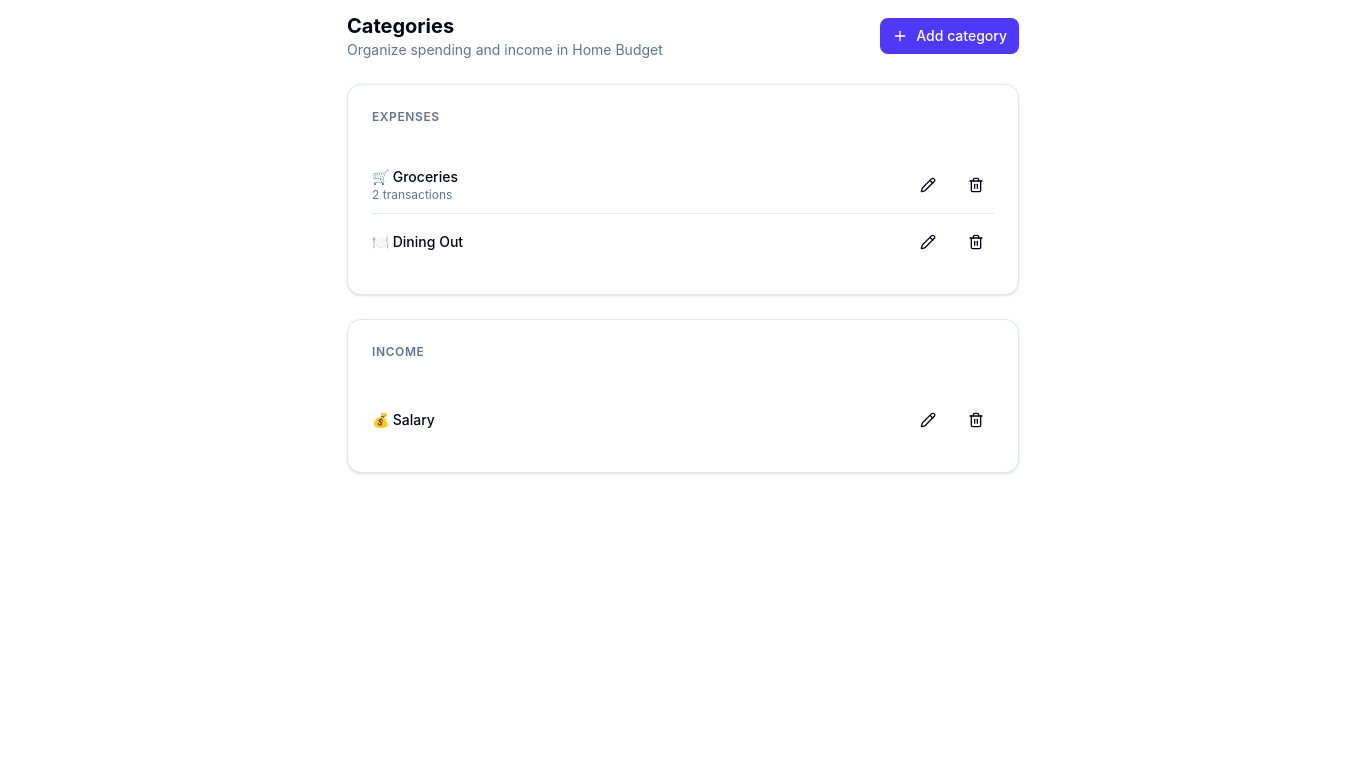
Test case: CategoriesPage › shows the backend detail message when delete returns 409
This screenshot has width=1366, height=780.
Expected: the text "🛒 Groceries" is shown, top-left (372, 168), bottom-right (458, 185)
Click the button named "delete groceries": [976, 185] box top-left (958, 167), bottom-right (994, 203)
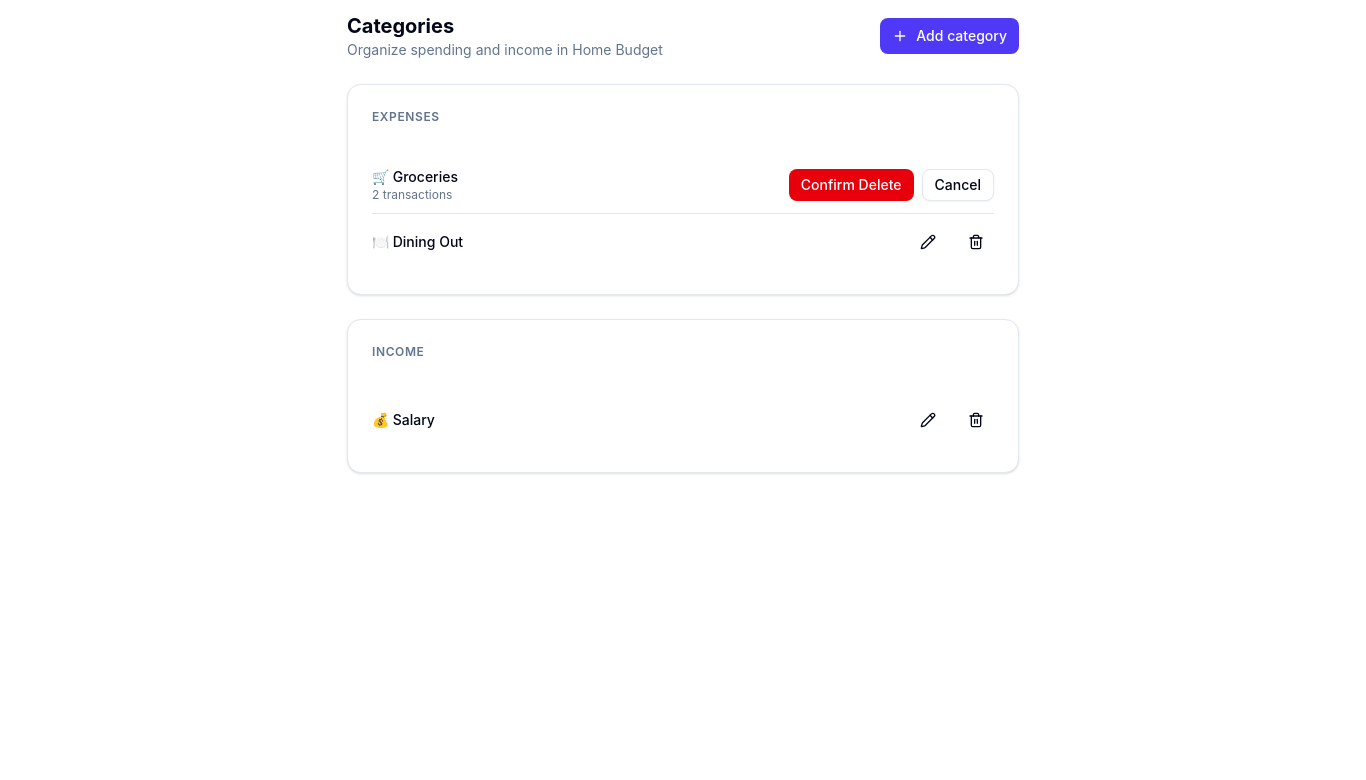
Click the button "Confirm Delete": [851, 185] box top-left (789, 169), bottom-right (914, 201)
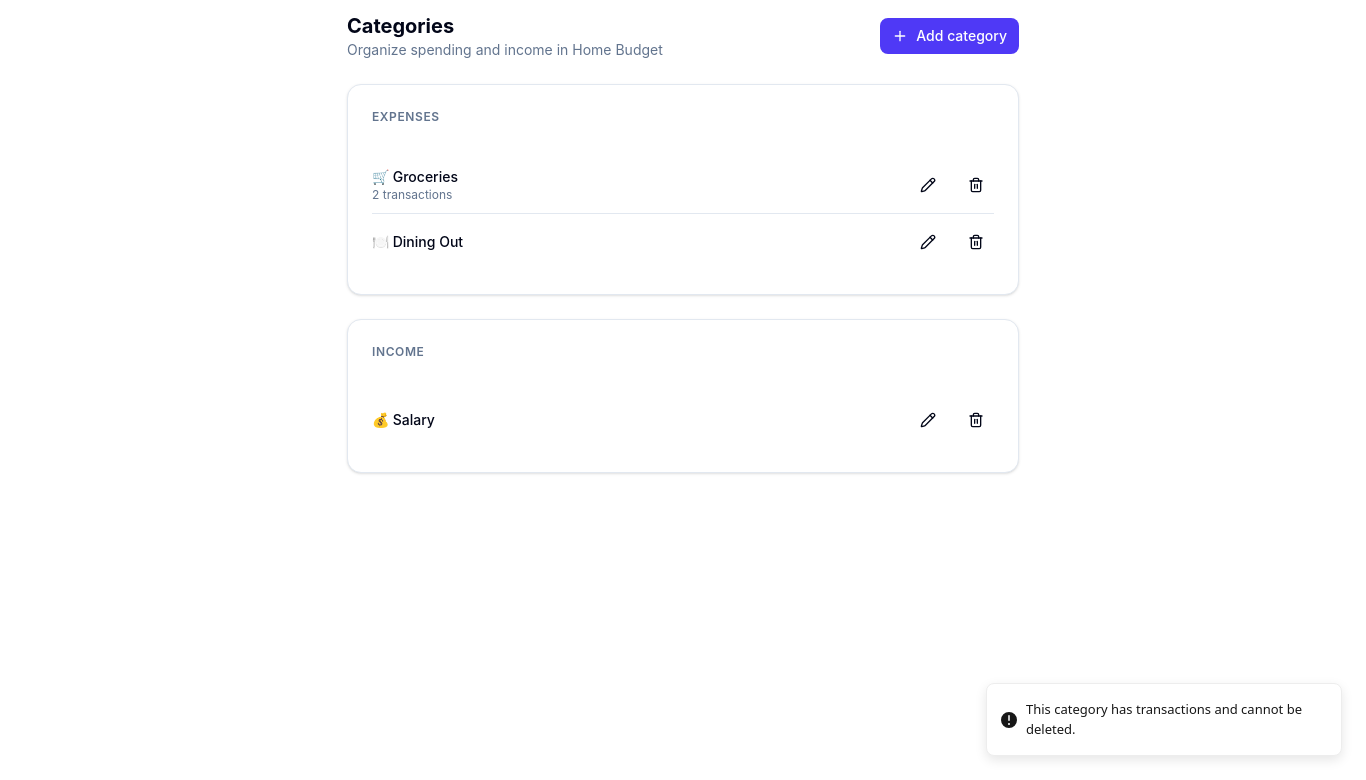
Now the text "This category has transactions and cannot be deleted." is shown, box top-left (1026, 700), bottom-right (1325, 739)
